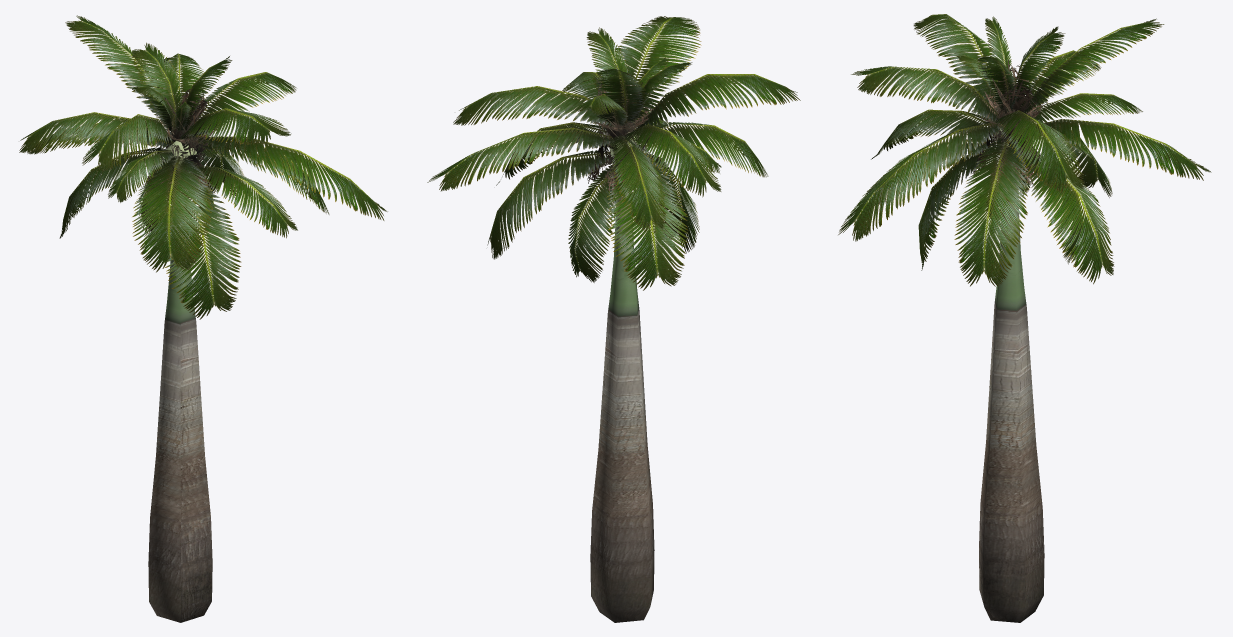
The model's file is LowPoly_Palms.fbx.
3 views of the same model, side by side, from view 1: azimuth 30°, elevation 25°; view 2: azimuth 150°, elevation 25°; view 3: azimuth 270°, elevation 25° (orthographic). The views are drawn at different scales.
Parts seen in each view (by area): view 1: Palm1_VAR2; view 2: Palm1_VAR2; view 3: Palm1_VAR2.
Boxes of the visible parts, x1,y1,x2,y2 form: Palm1_VAR2: [19, 15, 387, 622]; Palm1_VAR2: [427, 16, 800, 622]; Palm1_VAR2: [838, 14, 1211, 622].
Size of the model in its own units: 276 by 512 by 311.
Materials: 1 (1 with a texture image).
